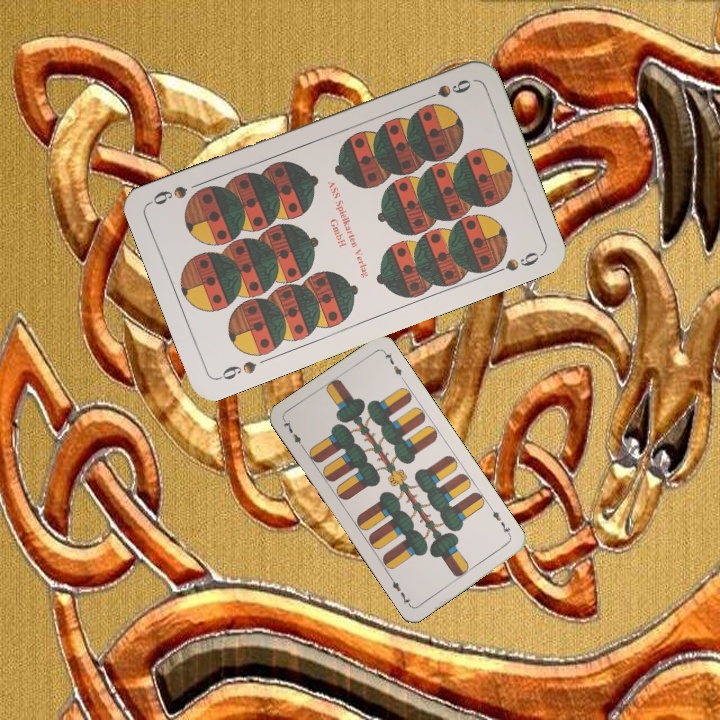E7: (279, 416, 307, 452), (487, 504, 514, 540)
S9: (417, 75, 474, 104), (214, 357, 259, 383)
